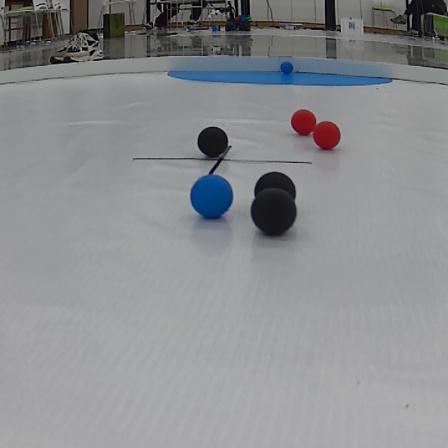black: (252, 192, 299, 234), (254, 170, 298, 203), (196, 126, 230, 159)
blue: (188, 174, 233, 219), (280, 60, 293, 74)
blue_base: (160, 63, 400, 91)
red: (312, 120, 340, 151), (290, 109, 316, 135)
